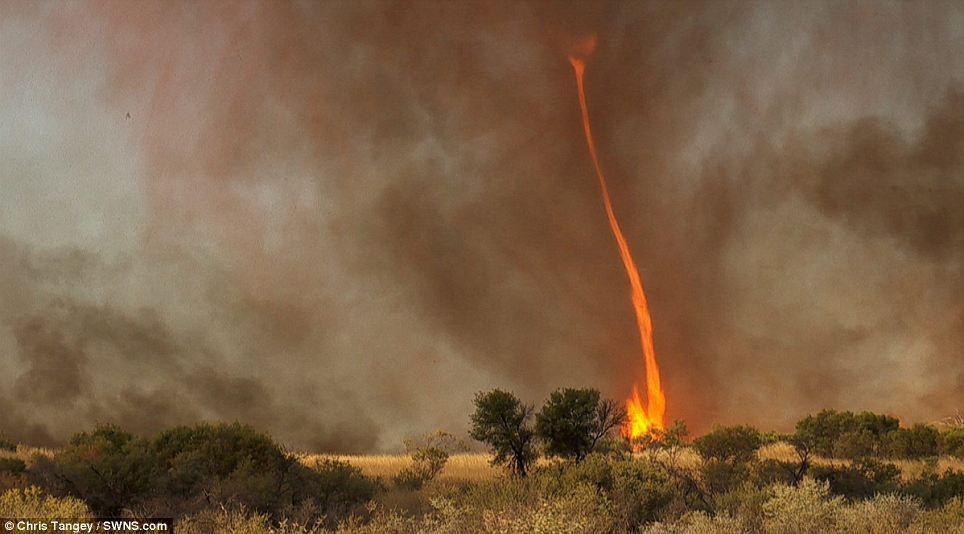fire: (567, 35, 676, 448)
